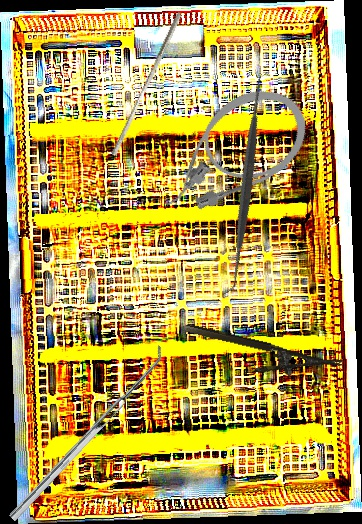Cannula: (137, 72, 323, 231)
Needle Holder: (178, 321, 344, 392)
Pusher: (109, 8, 184, 160)
Spatula Surgical: (135, 71, 358, 295), (2, 343, 170, 522)
